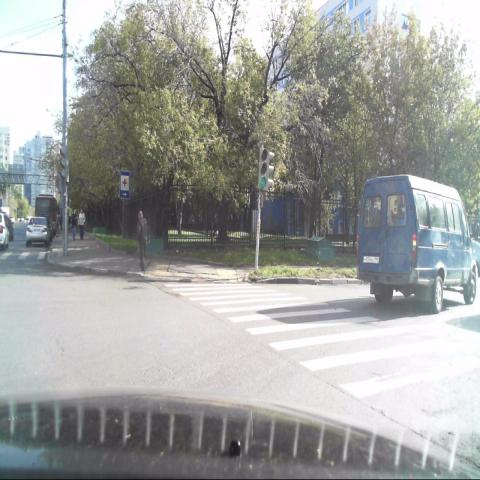7_1: (120, 170, 130, 198)
